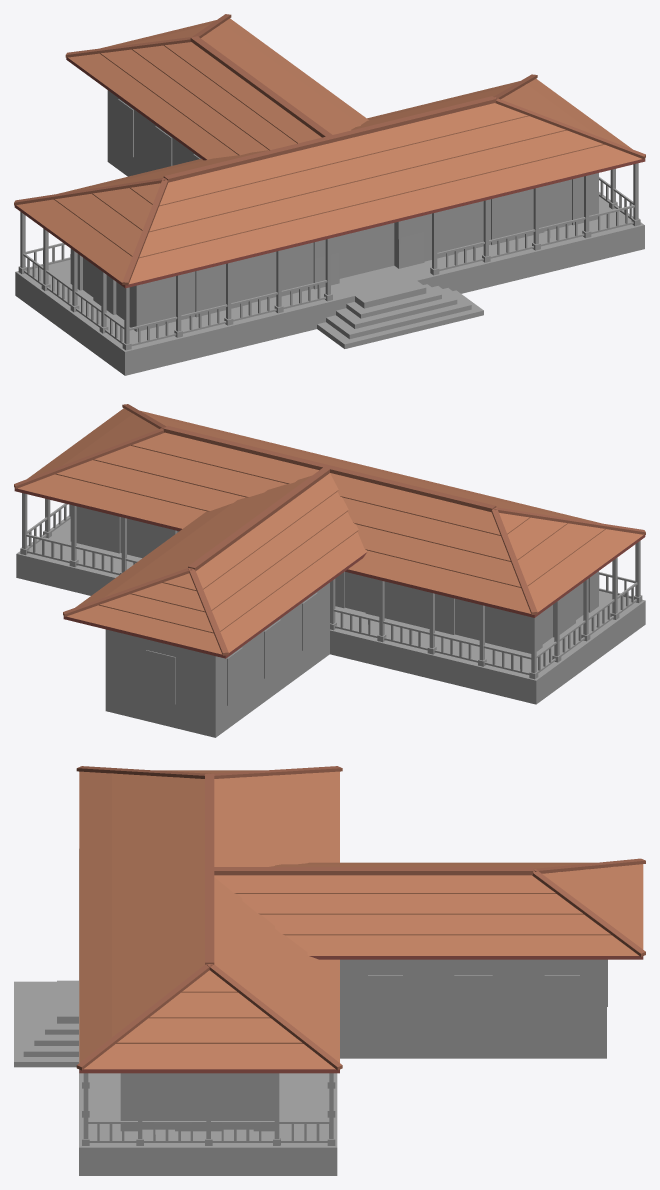
Rendered from casacasacasabasica.fbx.
3 renders of one model, top to bottom at view 1: azimuth 30°, elevation 25°; view 2: azimuth 150°, elevation 25°; view 3: azimuth 270°, elevation 25°, orthographic. The views are drawn at different scales.
Visible parts, largest first — view 1: Techo_Teja, pCube1, Techo_Caballete, pCube8, pCube7, Techo_Alero, pCube11, pCube10, pCube12; view 2: Techo_Teja, pCube1, Techo_Caballete, pCube10, Techo_Alero, pCube11, pCube9, pCube12, pCube7; view 3: Techo_Teja, pCube1, Techo_Caballete, pCube12, Techo_Alero.
Boxes of the visible parts, bbox=[...] form: Techo_Teja: bbox=[16, 18, 641, 284]; pCube1: bbox=[15, 90, 644, 375]; Techo_Caballete: bbox=[14, 14, 645, 285]; pCube8: bbox=[430, 163, 640, 275]; pCube7: bbox=[122, 238, 332, 350]; Techo_Alero: bbox=[14, 57, 645, 288]; pCube11: bbox=[23, 228, 124, 344]; pCube10: bbox=[18, 212, 70, 274]; pCube12: bbox=[599, 169, 633, 219]; Techo_Teja: bbox=[18, 408, 643, 654]; pCube1: bbox=[16, 505, 645, 737]; Techo_Caballete: bbox=[14, 404, 645, 655]; pCube10: bbox=[330, 579, 538, 679]; Techo_Alero: bbox=[14, 488, 645, 658]; pCube11: bbox=[536, 557, 637, 672]; pCube9: bbox=[20, 493, 177, 575]; pCube12: bbox=[27, 498, 70, 548]; pCube7: bbox=[599, 540, 642, 602]; Techo_Teja: bbox=[79, 770, 643, 1069]; pCube1: bbox=[14, 849, 607, 1175]; Techo_Caballete: bbox=[76, 766, 645, 1070]; pCube12: bbox=[88, 1073, 329, 1145]; Techo_Alero: bbox=[79, 956, 643, 1073].
Size of the model in its own units: 121 by 29.53 by 107.
